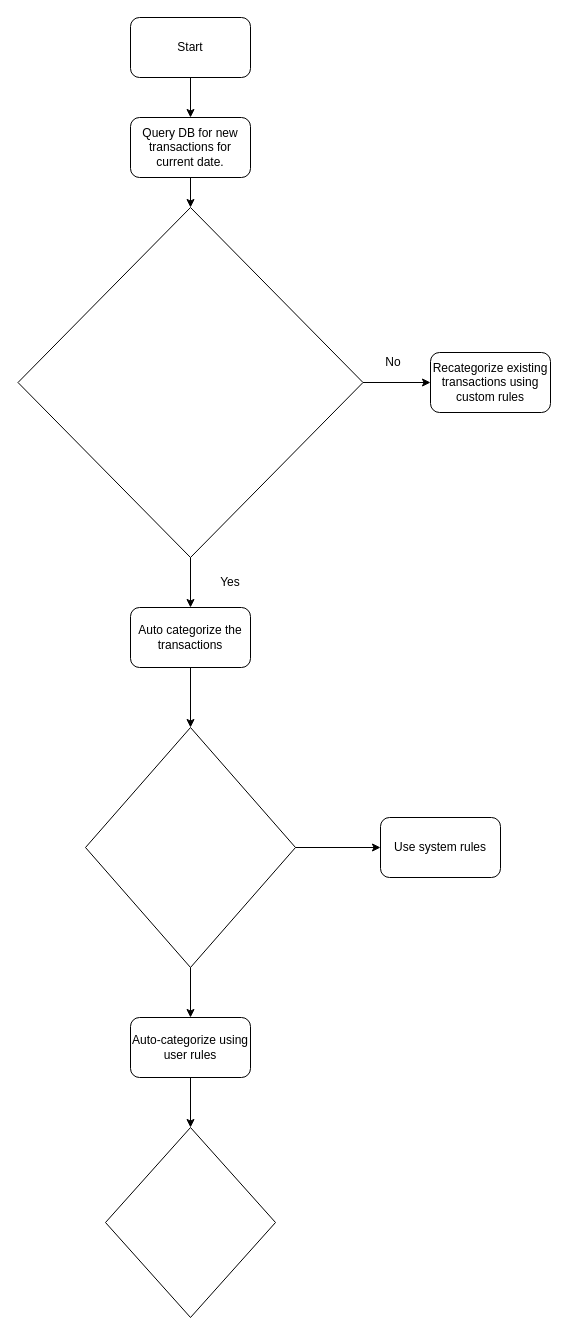
Image size: 568x1335. Some labels were removed from this diagram. The shapes that lost their labels are listed below. From the top down, each one's centre as x and y in pixels, then its label:
At [190,382]: "If no new transactions on current date, then skip new categorizations".
At [190,847]: "Do user rules existing for any transactions?".
At [190,1222]: "Did any".
